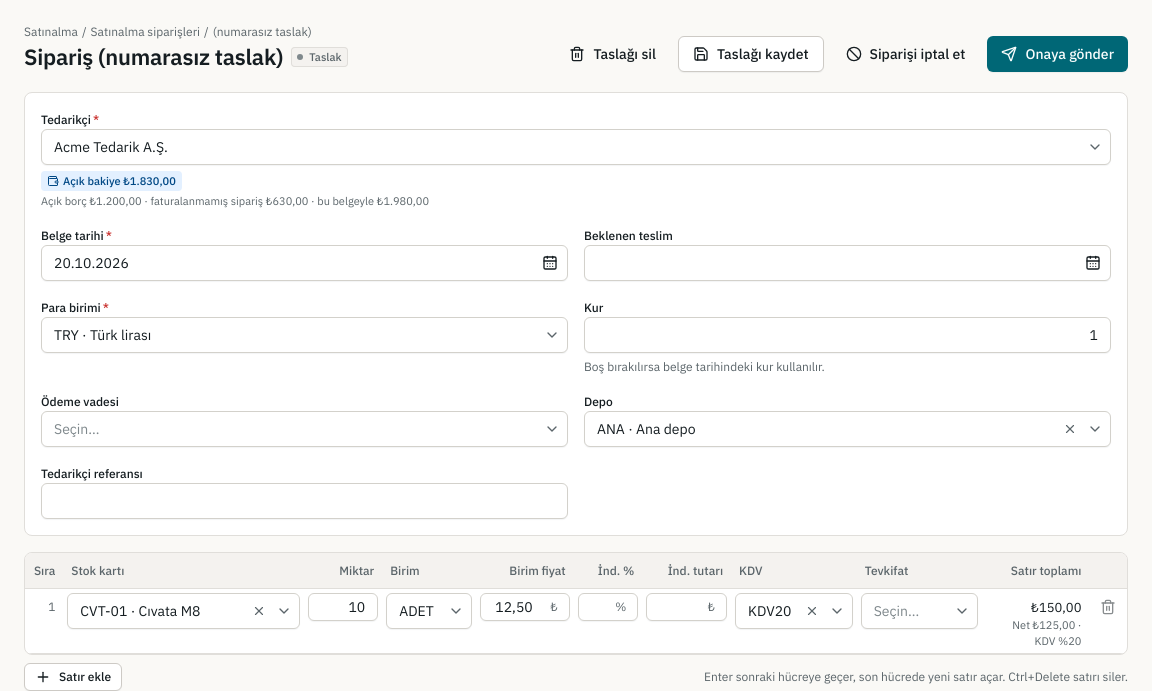
Test case: order editor and submit › saves typed decimal strings before submitting the saved version
Click the field named "Miktar, 1. satır": (343, 607) top-left (308, 593), bottom-right (378, 621)
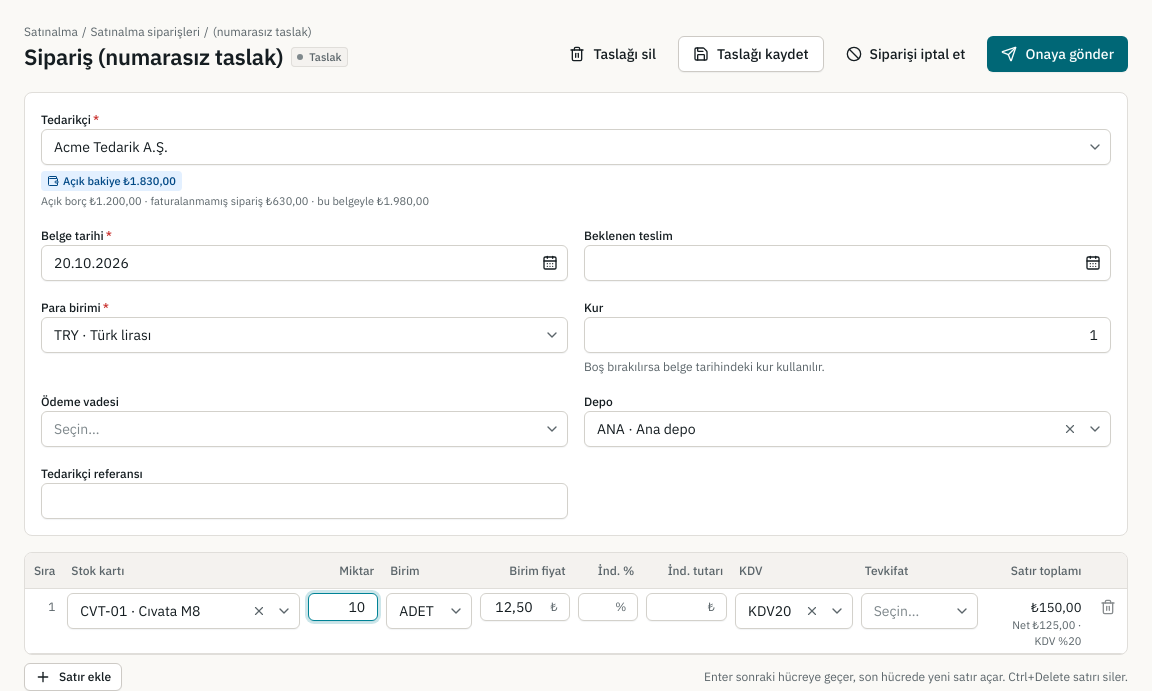
Type keys "{Control>}a{/Control}"
Type keys "3"
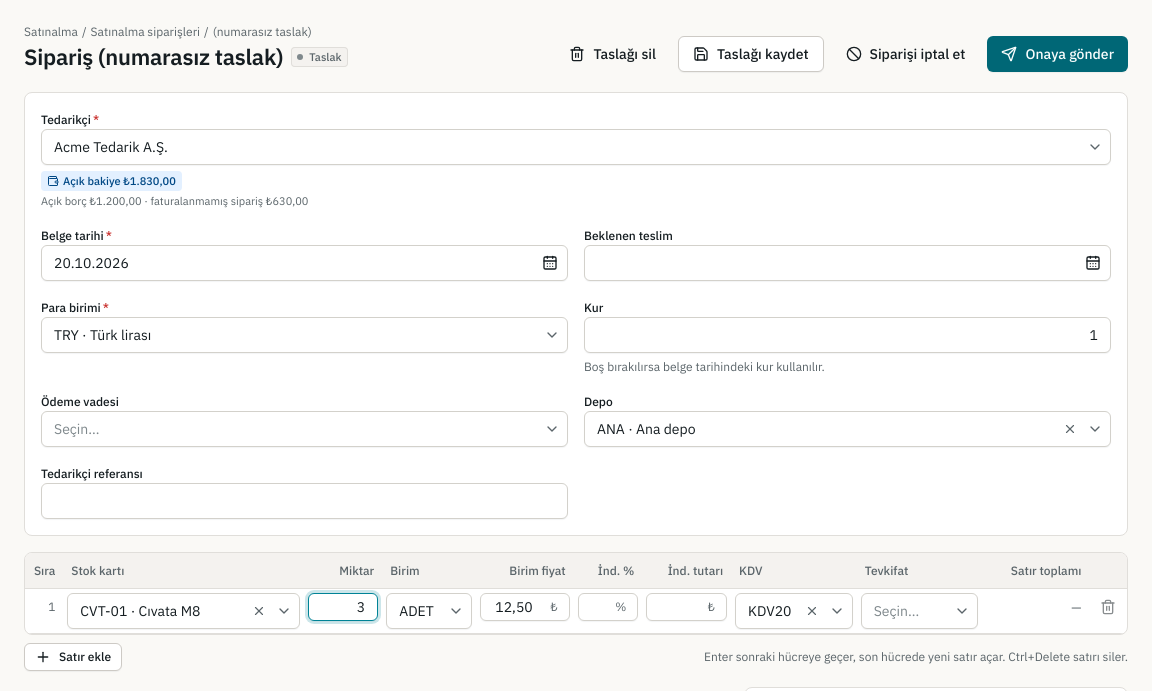
Click the field named "Birim fiyat, 1. satır": (525, 607) top-left (480, 593), bottom-right (570, 621)
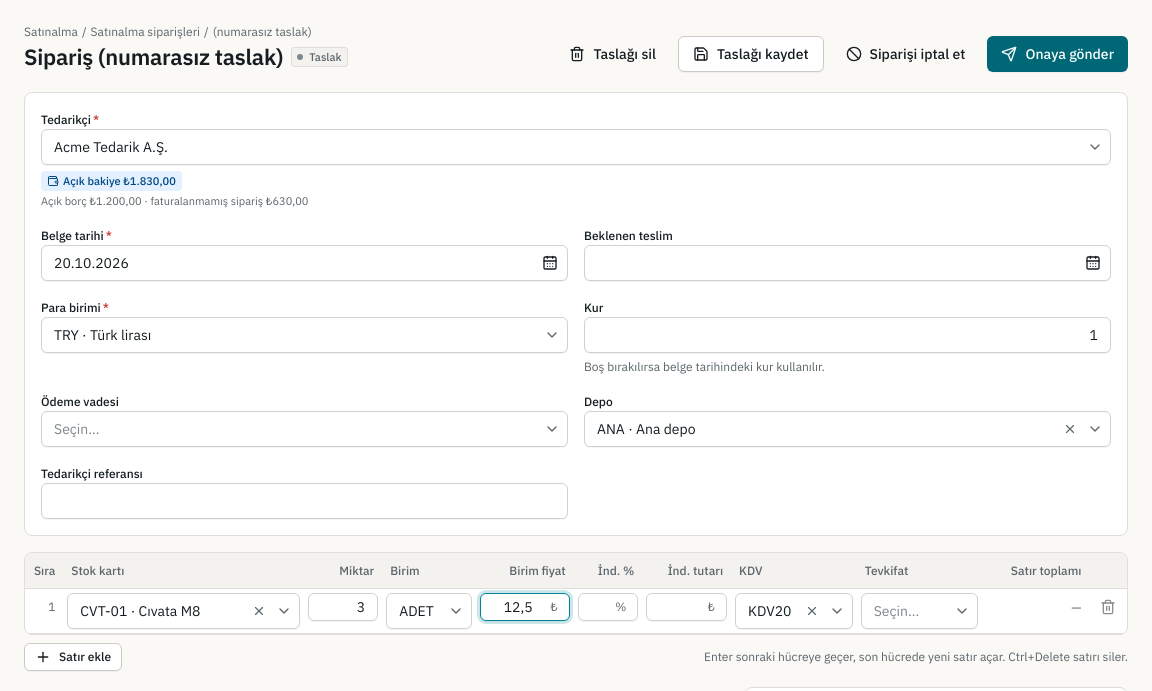
Type keys "{Control>}a{/Control}"
Type keys "0,1"
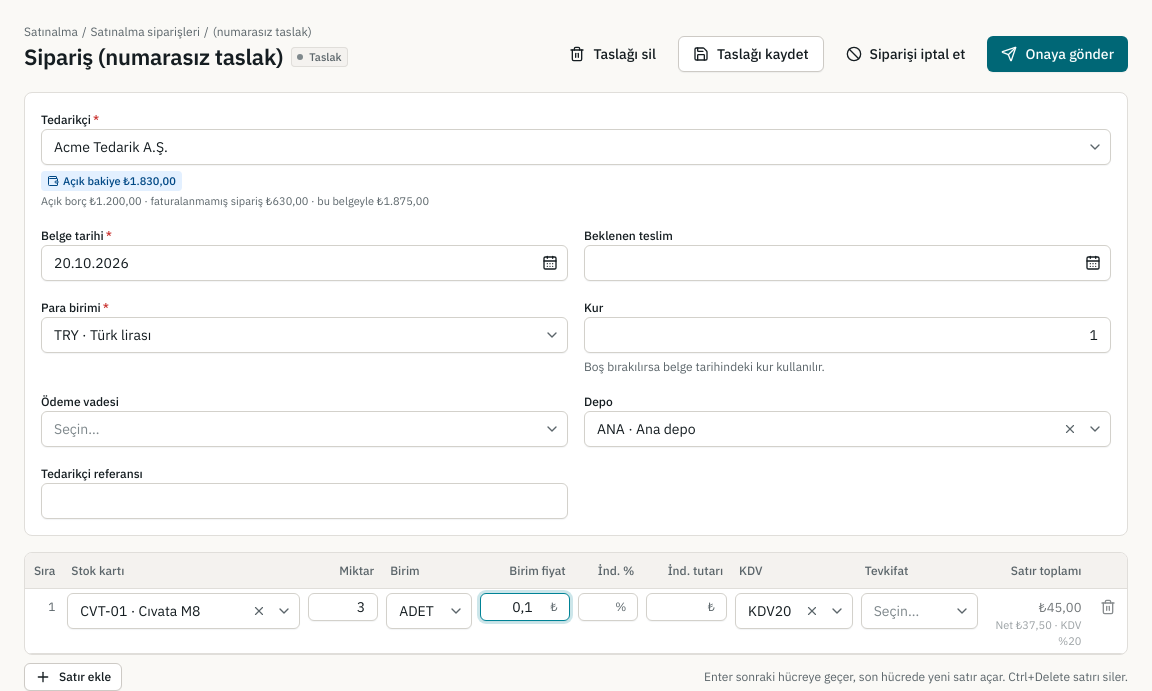
Click the button "Onaya gönder": (1058, 54) top-left (988, 36), bottom-right (1128, 72)
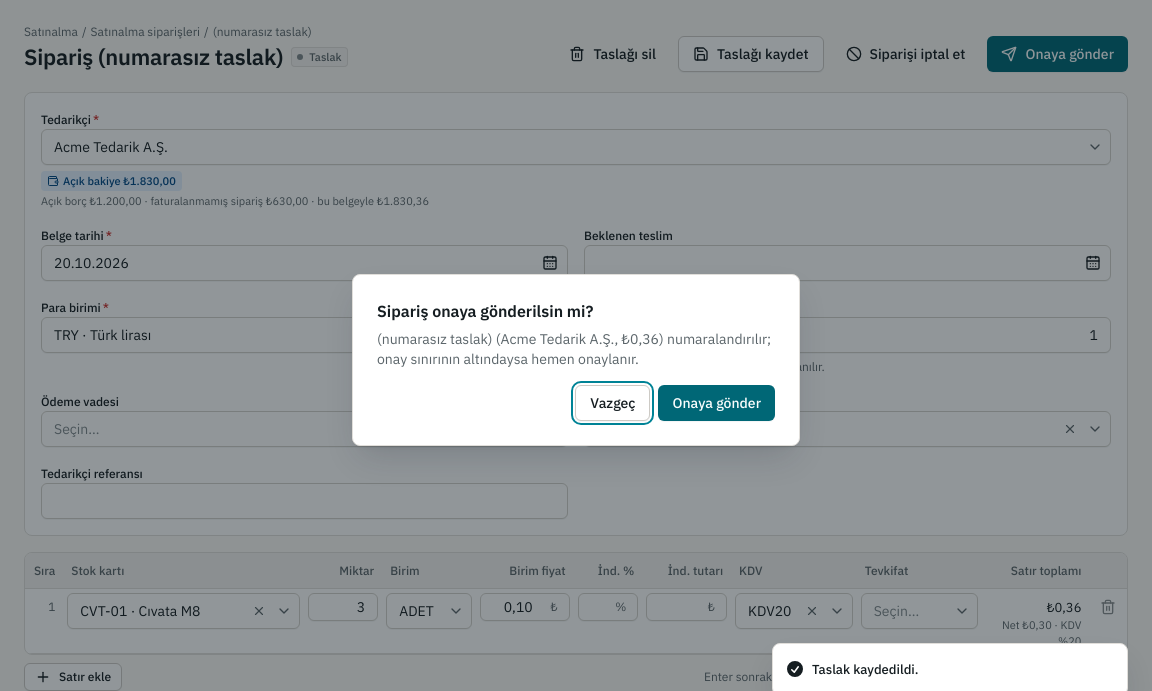
Expected: the text "0,36" is shown, top-left (377, 330), bottom-right (771, 368)
Click the button "Onaya gönder": (717, 403) top-left (658, 385), bottom-right (775, 421)
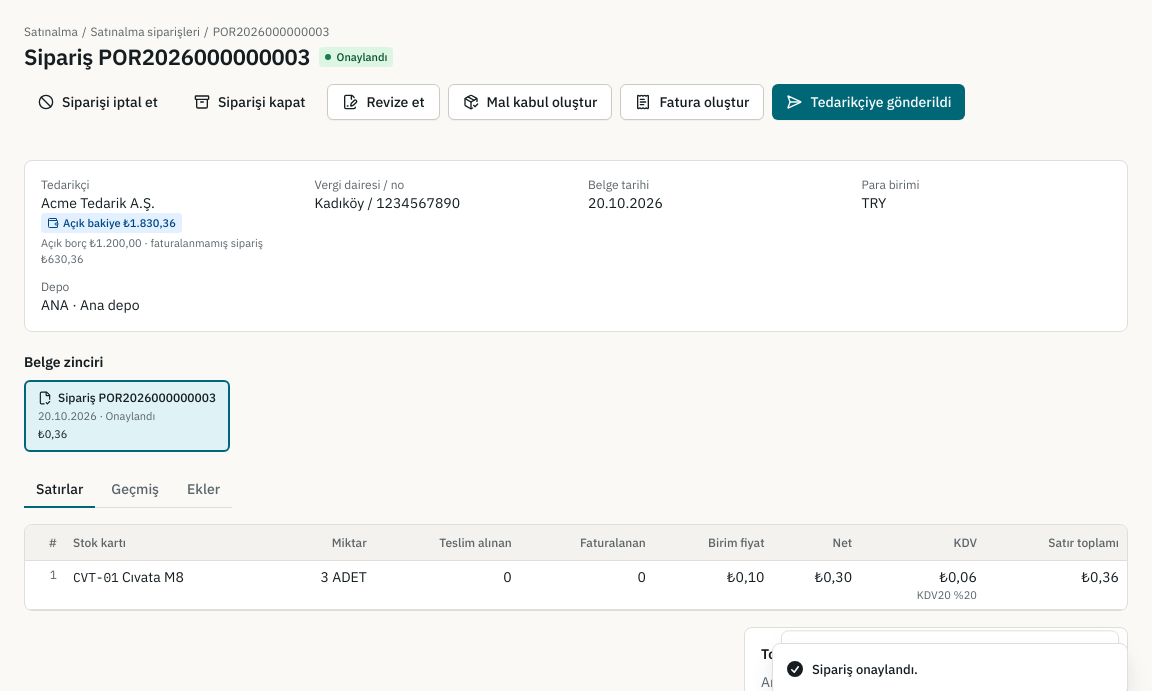
Expected: the heading "Sipariş POR2026000000003" is shown, top-left (24, 42), bottom-right (311, 72)
